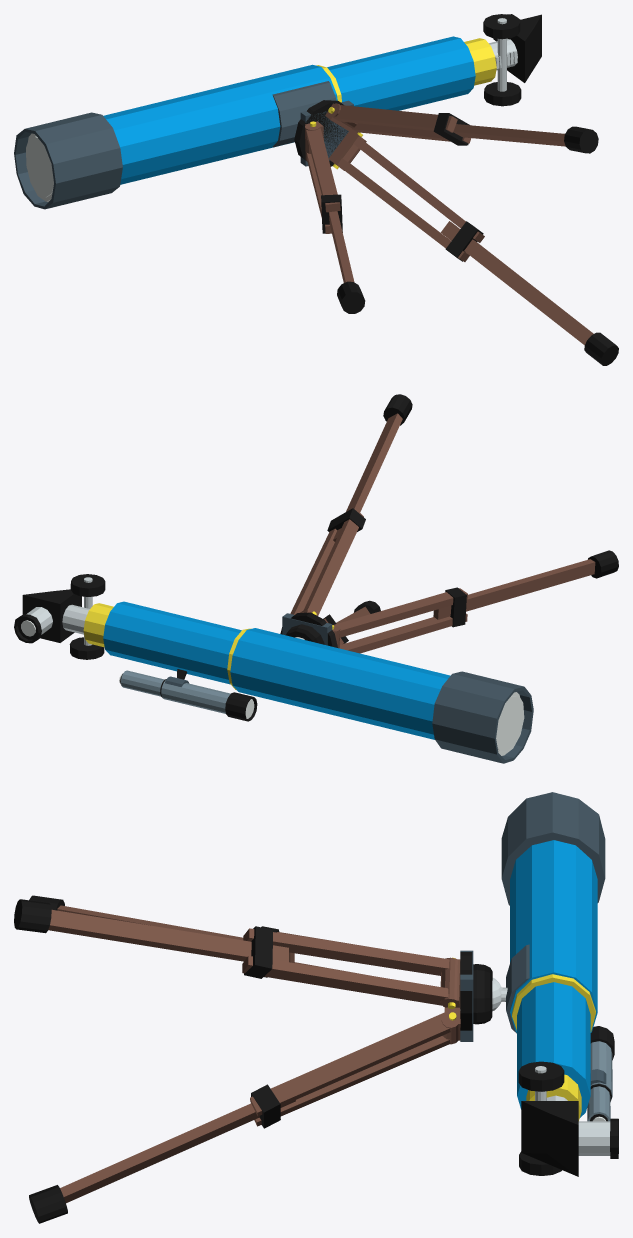
Rendered from Hidden_Telescope.fbx.
3 renders of one model, top to bottom at view 1: azimuth 30°, elevation 25°; view 2: azimuth 150°, elevation 25°; view 3: azimuth 270°, elevation 25°, orthographic. The views are drawn at different scales.
Visible parts, largest first — view 1: imagetostl_mesh0, imagetostl_mesh1, imagetostl_mesh3, imagetostl_mesh51, imagetostl_mesh2, imagetostl_mesh46, imagetostl_mesh30, imagetostl_mesh47, imagetostl_mesh53, imagetostl_mesh54, imagetostl_mesh60, imagetostl_mesh34 (+13 smaller); view 2: imagetostl_mesh0, imagetostl_mesh1, imagetostl_mesh3, imagetostl_mesh59, imagetostl_mesh60, imagetostl_mesh46, imagetostl_mesh30, imagetostl_mesh62, imagetostl_mesh47, imagetostl_mesh12, imagetostl_mesh34, imagetostl_mesh45 (+10 smaller); view 3: imagetostl_mesh0, imagetostl_mesh1, imagetostl_mesh3, imagetostl_mesh47, imagetostl_mesh54, imagetostl_mesh30, imagetostl_mesh51, imagetostl_mesh45, imagetostl_mesh46, imagetostl_mesh53, imagetostl_mesh19, imagetostl_mesh37 (+14 smaller).
Boxes of the visible parts, box(x1,y1,x2,y2) form: imagetostl_mesh0: box(103, 64, 337, 184); imagetostl_mesh1: box(327, 36, 475, 110); imagetostl_mesh3: box(14, 112, 122, 209); imagetostl_mesh51: box(441, 221, 593, 345); imagetostl_mesh2: box(272, 81, 336, 147); imagetostl_mesh46: box(334, 105, 457, 132); imagetostl_mesh30: box(507, 14, 541, 82); imagetostl_mesh47: box(432, 124, 565, 146); imagetostl_mesh53: box(337, 158, 469, 261); imagetostl_mesh54: box(353, 137, 484, 242); imagetostl_mesh60: box(306, 127, 340, 212); imagetostl_mesh34: box(26, 136, 53, 197); imagetostl_mesh0: box(230, 628, 450, 739); imagetostl_mesh1: box(103, 601, 241, 684); imagetostl_mesh3: box(432, 671, 533, 763); imagetostl_mesh59: box(433, 559, 595, 619); imagetostl_mesh60: box(333, 588, 467, 637); imagetostl_mesh46: box(303, 508, 363, 615); imagetostl_mesh30: box(22, 589, 81, 642); imagetostl_mesh62: box(339, 613, 467, 653); imagetostl_mesh47: box(333, 413, 402, 541); imagetostl_mesh12: box(161, 680, 230, 713); imagetostl_mesh34: box(496, 696, 523, 750); imagetostl_mesh45: box(290, 528, 337, 614); imagetostl_mesh0: box(510, 840, 597, 1032); imagetostl_mesh1: box(517, 982, 590, 1117); imagetostl_mesh3: box(501, 792, 605, 905); imagetostl_mesh47: box(48, 909, 288, 962); imagetostl_mesh54: box(250, 1012, 458, 1116); imagetostl_mesh30: box(521, 1101, 578, 1176); imagetostl_mesh51: box(60, 1100, 295, 1203); imagetostl_mesh45: box(242, 955, 456, 1005); imagetostl_mesh46: box(243, 928, 457, 975); imagetostl_mesh53: box(254, 1036, 458, 1126); imagetostl_mesh19: box(518, 1061, 564, 1091); imagetostl_mesh37: box(473, 964, 492, 1024).
Size of the model in its own units: 193 by 88.22 by 158.
